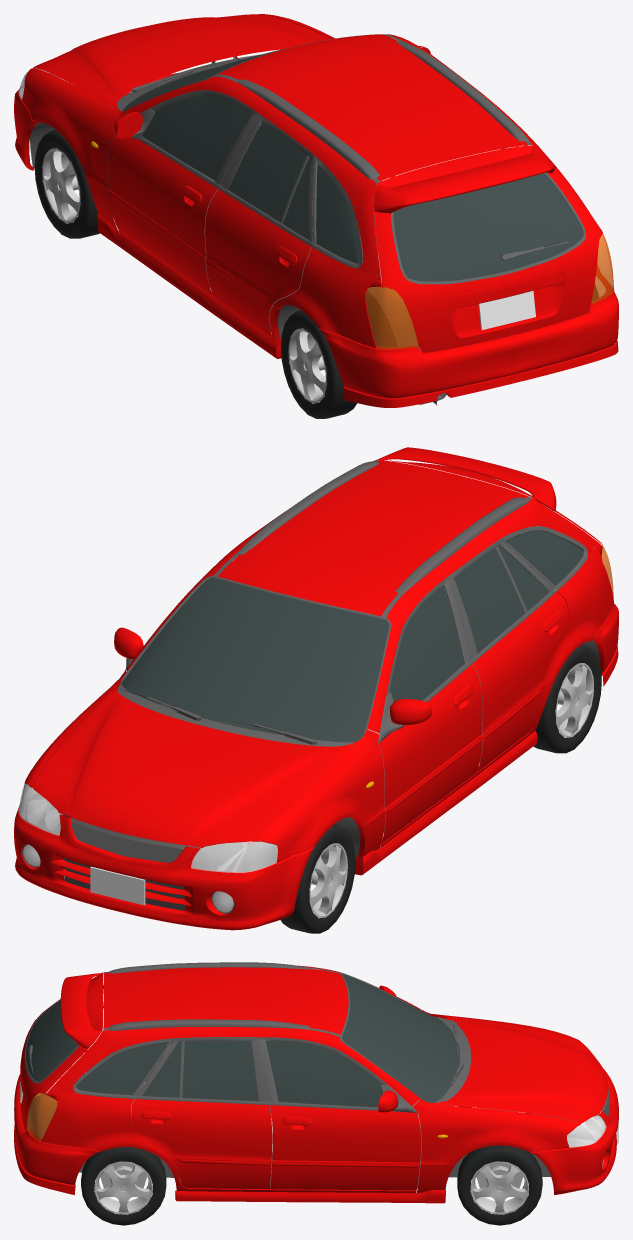
File: vehicle-car-2.gltf
3 views of the same model, one above another, from view 1: azimuth 30°, elevation 25°; view 2: azimuth 150°, elevation 25°; view 3: azimuth 270°, elevation 25° (orthographic). The views are drawn at different scales.
Parts seen in each view (by area): view 1: 3DXY_group_001.1-3DXY_Material_7, 3DXY_group_001.1-3DXY_Material_6, 3DXY_group_001.1-3DXY_Material_4, 3DXY_group_001.1-3DXY_Material_12, 3DXY_group_001.1-3DXY_Material_5, 3DXY_group_001.1-3DXY_Material_8, 3DXY_group_001.1-3DXY_Material_3, 3DXY_group_001.1-3DXY_Material_9; view 2: 3DXY_group_001.1-3DXY_Material_7, 3DXY_group_001.1-3DXY_Material_6, 3DXY_group_001.1-3DXY_Material_4, 3DXY_group_001.1-3DXY_Material_5, 3DXY_group_001.1-3DXY_Material_12, 3DXY_group_001.1-3DXY_Material_11, 3DXY_group_001.1-3DXY_Material_3, 3DXY_group_001.1-3DXY_Material_9; view 3: 3DXY_group_001.1-3DXY_Material_7, 3DXY_group_001.1-3DXY_Material_6, 3DXY_group_001.1-3DXY_Material_4, 3DXY_group_001.1-3DXY_Material_12, 3DXY_group_001.1-3DXY_Material_5, 3DXY_group_001.1-3DXY_Material_3, 3DXY_group_001.1-3DXY_Material_2, 3DXY_group_001.1-3DXY_Material_8, 3DXY_group_001.1-3DXY_Material_11.
Boxes of the visible parts, box(x1,y1,x2,y2) form: 3DXY_group_001.1-3DXY_Material_7: box(14, 14, 618, 407); 3DXY_group_001.1-3DXY_Material_6: box(122, 49, 583, 281); 3DXY_group_001.1-3DXY_Material_4: box(111, 34, 585, 284); 3DXY_group_001.1-3DXY_Material_12: box(34, 129, 598, 418); 3DXY_group_001.1-3DXY_Material_5: box(23, 57, 326, 403); 3DXY_group_001.1-3DXY_Material_8: box(366, 234, 613, 349); 3DXY_group_001.1-3DXY_Material_3: box(30, 114, 446, 405); 3DXY_group_001.1-3DXY_Material_9: box(478, 291, 535, 329); 3DXY_group_001.1-3DXY_Material_7: box(14, 447, 618, 930); 3DXY_group_001.1-3DXY_Material_6: box(121, 531, 583, 742); 3DXY_group_001.1-3DXY_Material_4: box(22, 459, 587, 913); 3DXY_group_001.1-3DXY_Material_5: box(19, 663, 593, 917); 3DXY_group_001.1-3DXY_Material_12: box(44, 644, 601, 933); 3DXY_group_001.1-3DXY_Material_11: box(18, 783, 277, 912); 3DXY_group_001.1-3DXY_Material_3: box(64, 597, 601, 879); 3DXY_group_001.1-3DXY_Material_9: box(90, 866, 145, 905); 3DXY_group_001.1-3DXY_Material_7: box(14, 965, 618, 1203); 3DXY_group_001.1-3DXY_Material_6: box(26, 974, 460, 1107); 3DXY_group_001.1-3DXY_Material_4: box(24, 962, 609, 1116); 3DXY_group_001.1-3DXY_Material_12: box(81, 1106, 542, 1225); 3DXY_group_001.1-3DXY_Material_5: box(94, 1108, 605, 1214); 3DXY_group_001.1-3DXY_Material_3: box(27, 1093, 599, 1188); 3DXY_group_001.1-3DXY_Material_2: box(100, 1087, 522, 1188); 3DXY_group_001.1-3DXY_Material_8: box(27, 1093, 57, 1141); 3DXY_group_001.1-3DXY_Material_11: box(566, 1044, 606, 1167).
Size of the model in its own units: 1.95 by 1.44 by 4.25.
